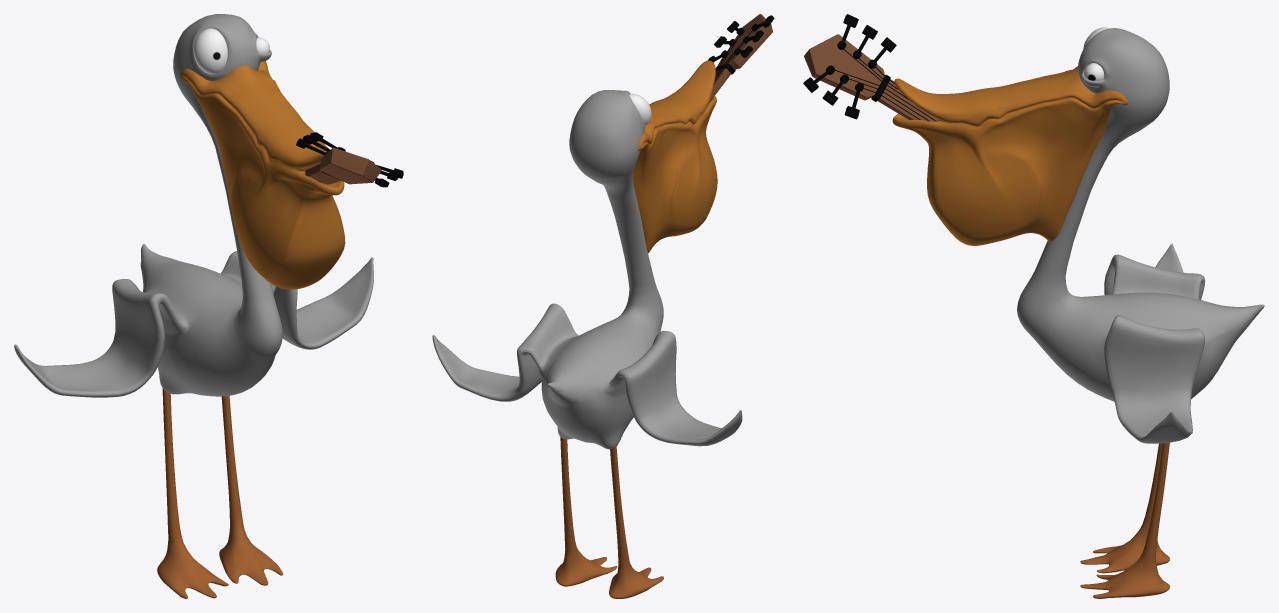
The model's file is Pélican.glb.
3 renders of one model, left to right at view 1: azimuth 30°, elevation 25°; view 2: azimuth 150°, elevation 25°; view 3: azimuth 270°, elevation 25°, orthographic. The views are drawn at different scales.
Parts seen in each view (by area): view 1: pelican.1; view 2: pelican.1; view 3: pelican.1.
Part boxes in pixels (x1,y1,x2,y2): pelican.1: (14, 14, 403, 598); pelican.1: (432, 14, 774, 598); pelican.1: (803, 14, 1264, 598).
Bounding box in the file's own units: 0.3563 × 0.5319 × 0.411.
1 material, 1 textured.
